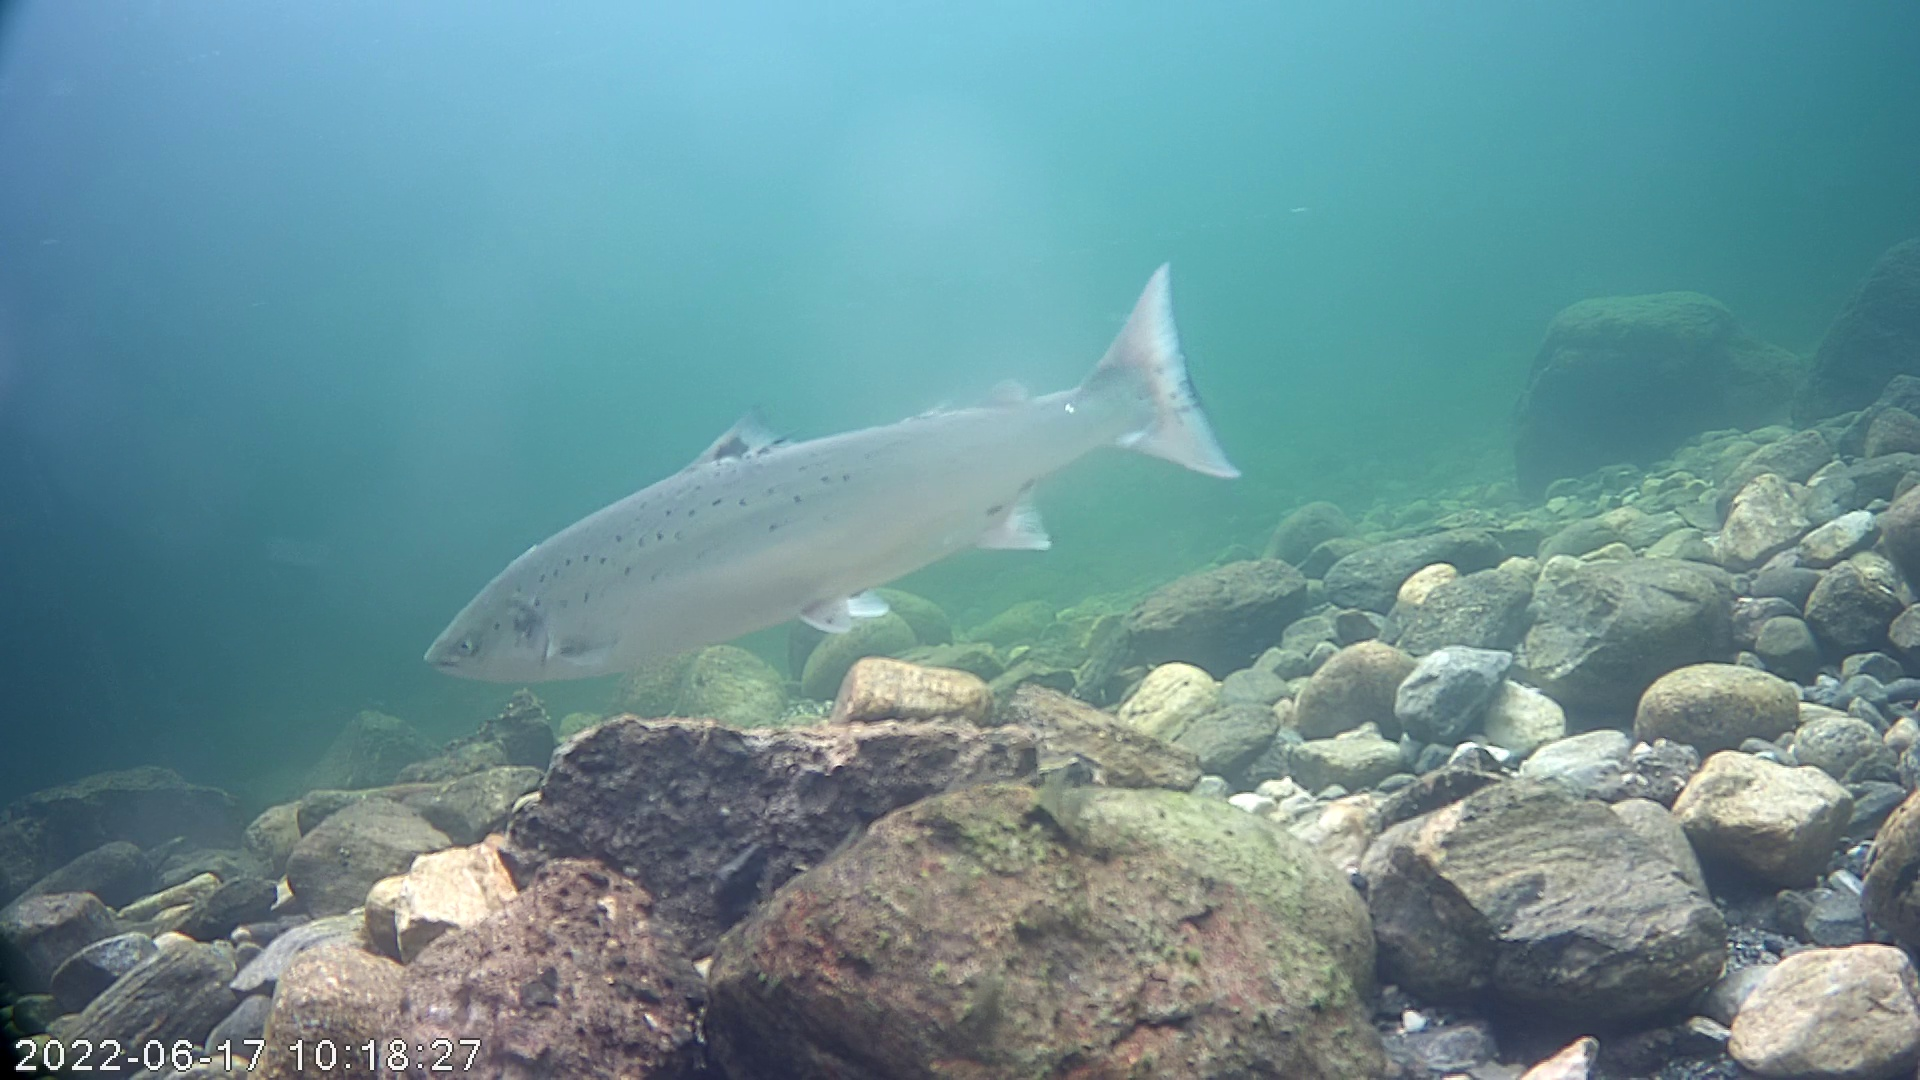salmon: (421, 257, 1245, 690)
